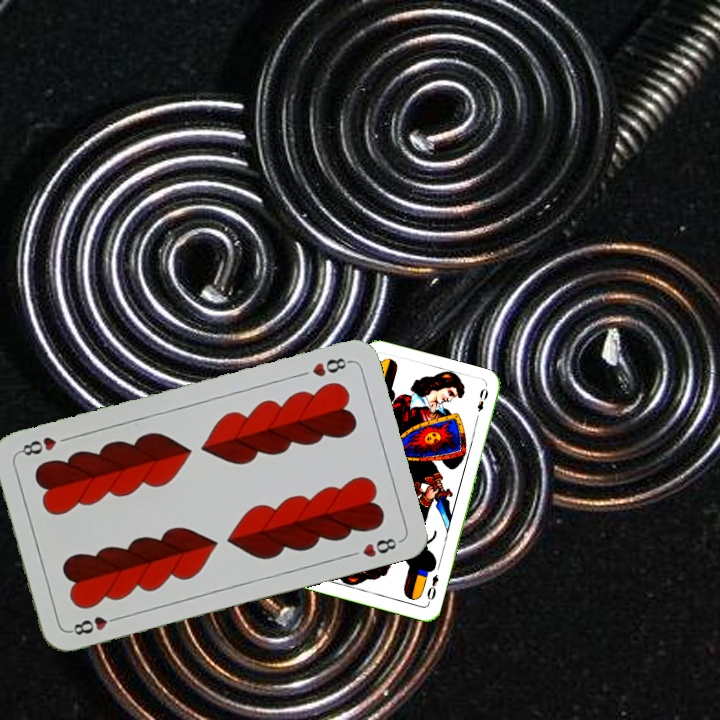EO: (423, 570, 441, 606)
H8: (65, 612, 123, 638), (308, 353, 354, 380)
